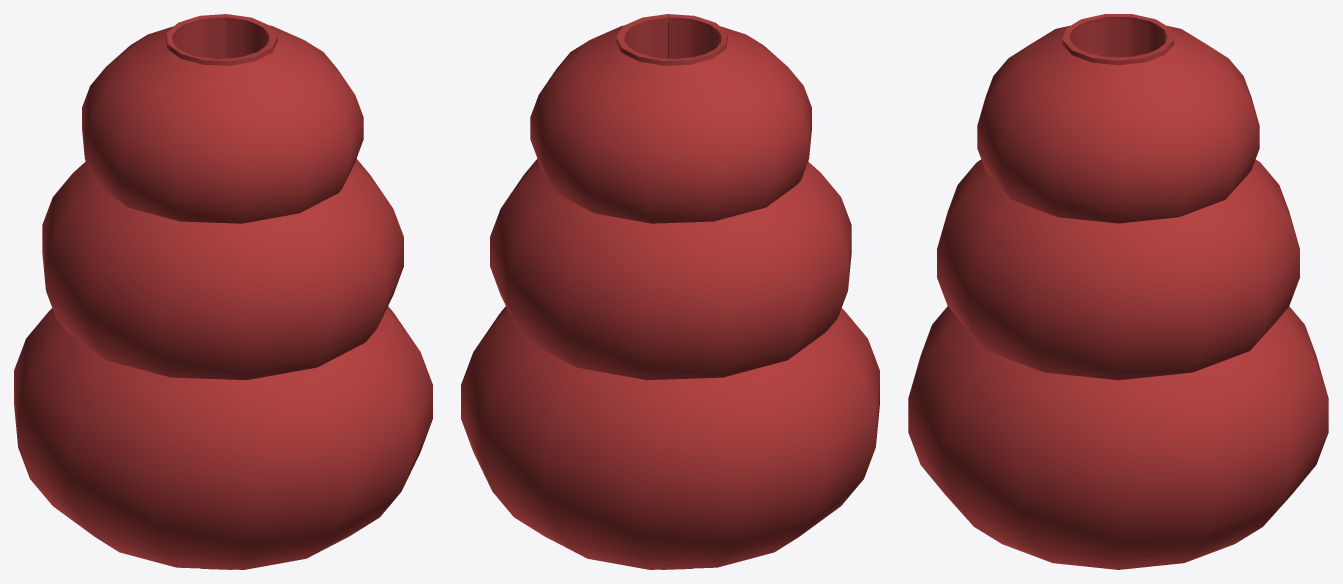
File: dogtoy1.fbx
3 renders of one model, left to right at view 1: azimuth 30°, elevation 25°; view 2: azimuth 150°, elevation 25°; view 3: azimuth 270°, elevation 25°, orthographic.
Visible parts, largest first — view 1: pSphere5; view 2: pSphere5; view 3: pSphere5.
Part boxes in pixels (left/top/right/bottom): pSphere5: left=14, top=14, right=432, bottom=569; pSphere5: left=461, top=14, right=879, bottom=569; pSphere5: left=908, top=14, right=1328, bottom=569.
Size of the model in its own units: 0.6874 by 0.9251 by 0.6924.
